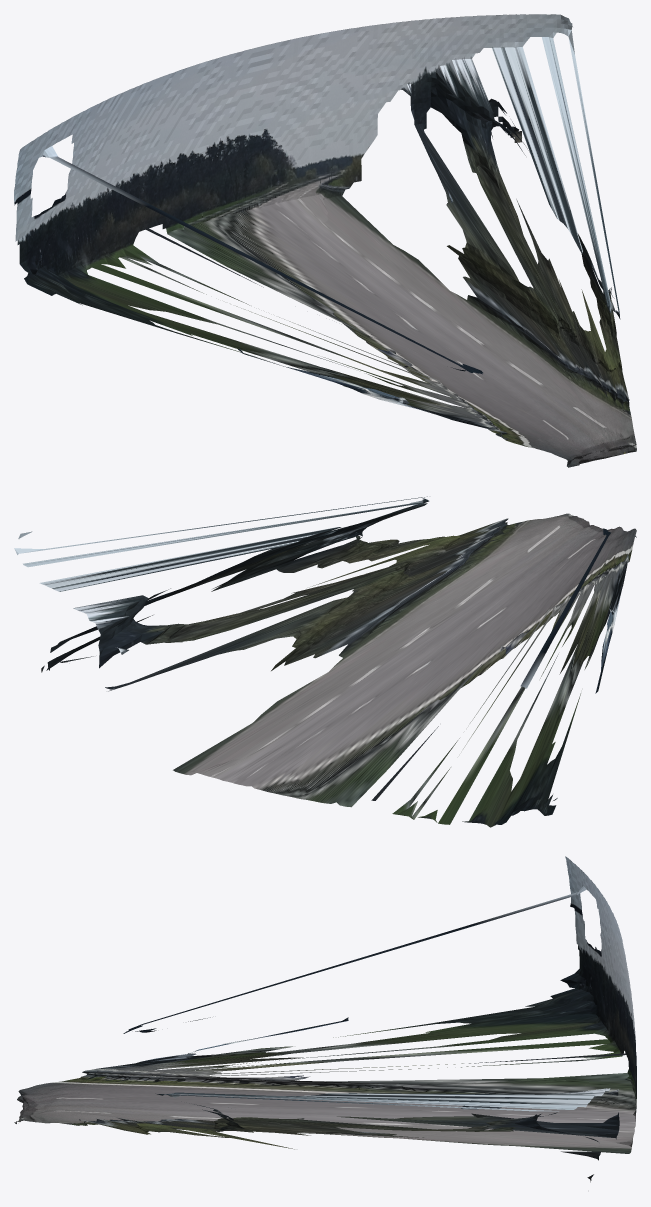
3 renders of one model, top to bottom at view 1: azimuth 30°, elevation 25°; view 2: azimuth 150°, elevation 25°; view 3: azimuth 270°, elevation 25°, orthographic. The views are drawn at different scales.
Parts seen in each view (by area): view 1: defaultobject; view 2: defaultobject; view 3: defaultobject.
Boxes of the visible parts, x1,y1,x2,y2 form: defaultobject: [14, 14, 636, 467]; defaultobject: [14, 496, 636, 827]; defaultobject: [14, 856, 636, 1182].
Bounding box in the file's own units: 40.72 × 12.08 × 44.58.
Materials: 1 (1 with a texture image).
